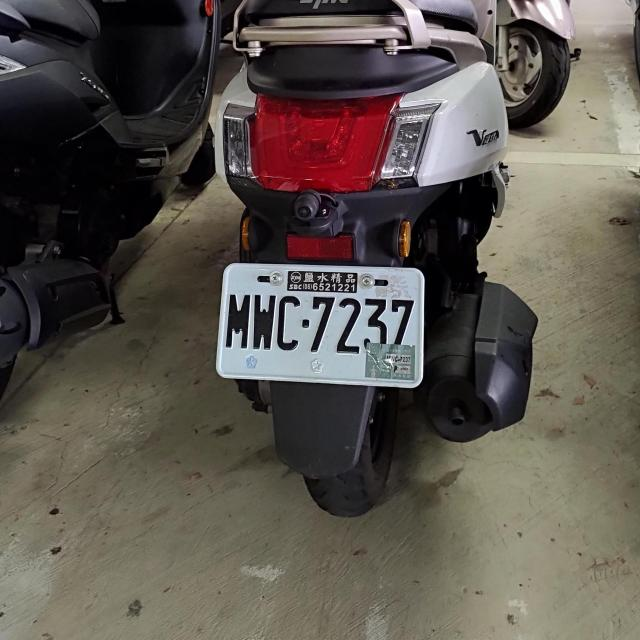W: (218, 261, 424, 385)
